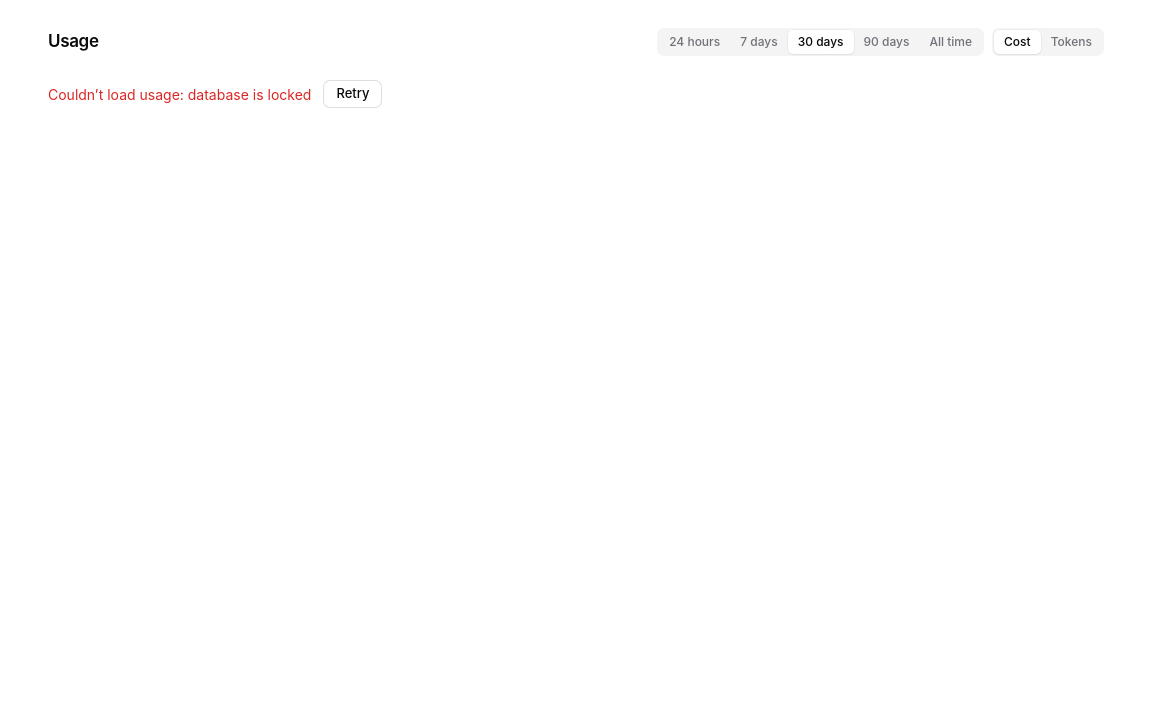
Test case: UsagePage › a failed load shows the error with Retry, which recovers
Expected: the message shows "database is locked", [188, 86, 311, 102]
What coordinates should you click on to do the following:
click the button "Retry"
I would click on:
 (353, 94)
Its box is [323, 80, 382, 108].
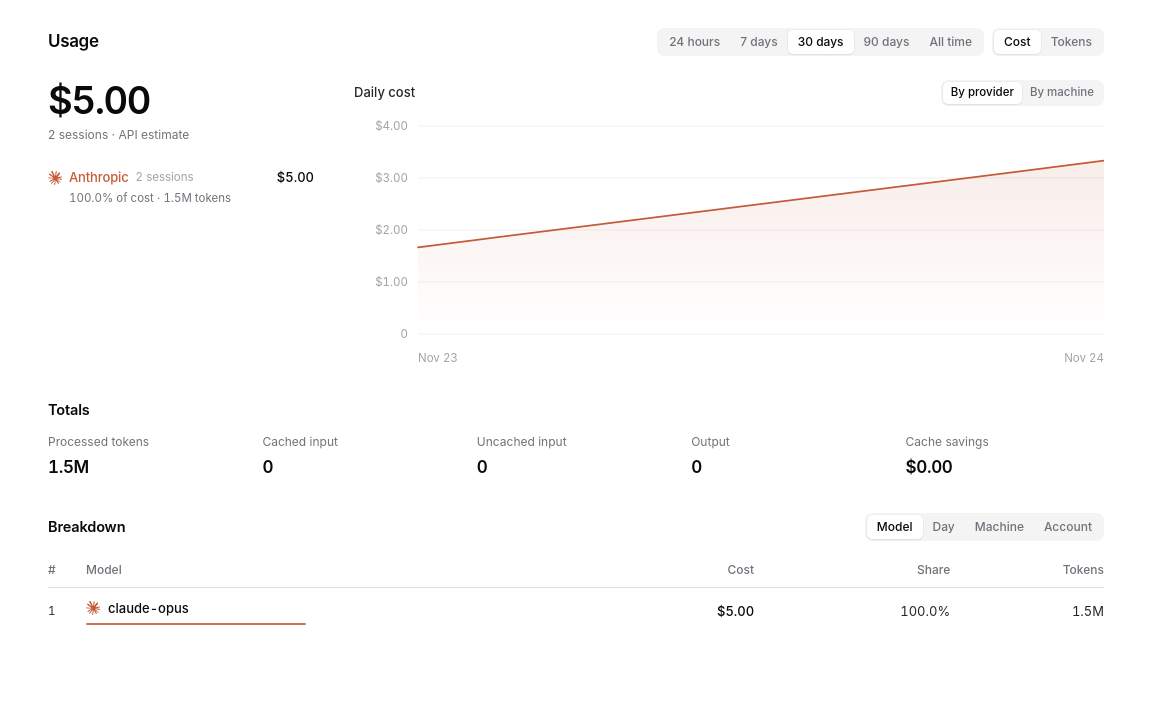
Result: the message "Couldn’t load usage: database is locked Retry" is gone
Result: the 1st text "$5.00" is shown at [48, 77, 150, 123]
